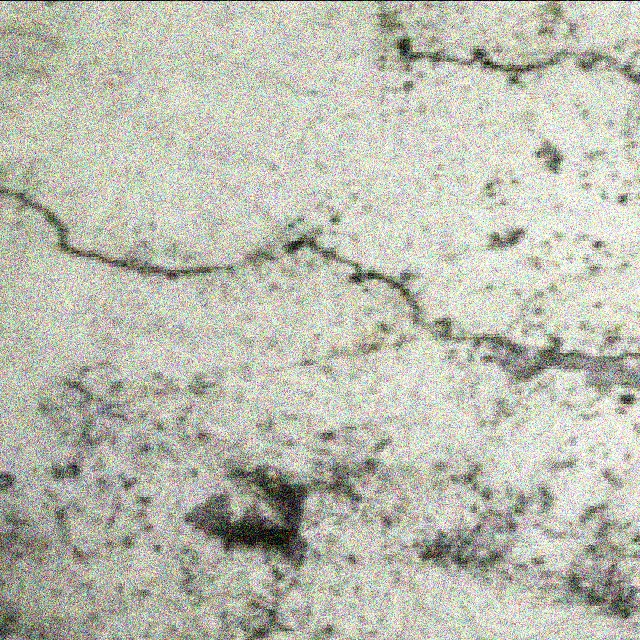SurfaceCrack: (364, 6, 640, 112)
